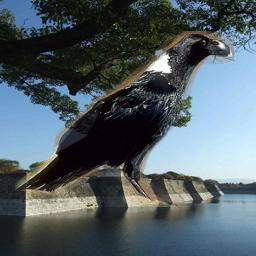Crow: (15, 31, 234, 207)
